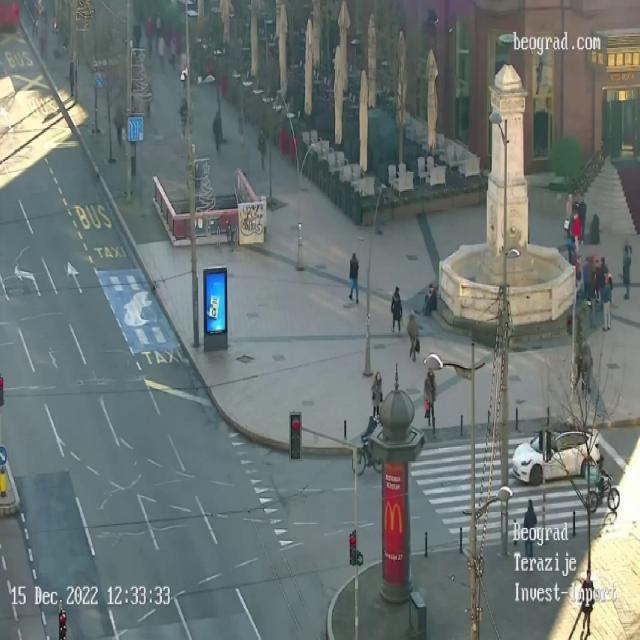car: (512, 425, 600, 486)
